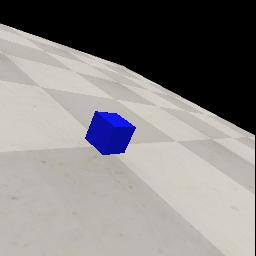box: (85, 111, 136, 155)
